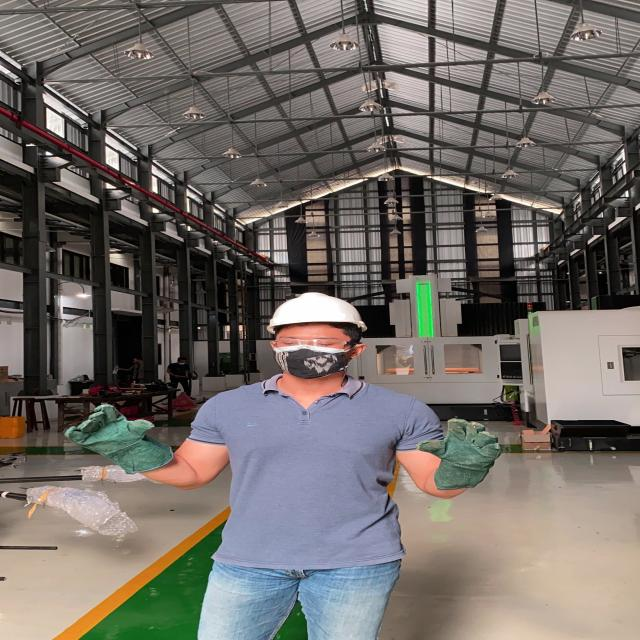face_mask: (266, 333, 358, 377)
glasses: (270, 338, 368, 353)
hand_glove: (55, 399, 163, 457), (412, 414, 509, 471)
head_helmet: (259, 287, 375, 333)
person: (54, 284, 527, 640)
